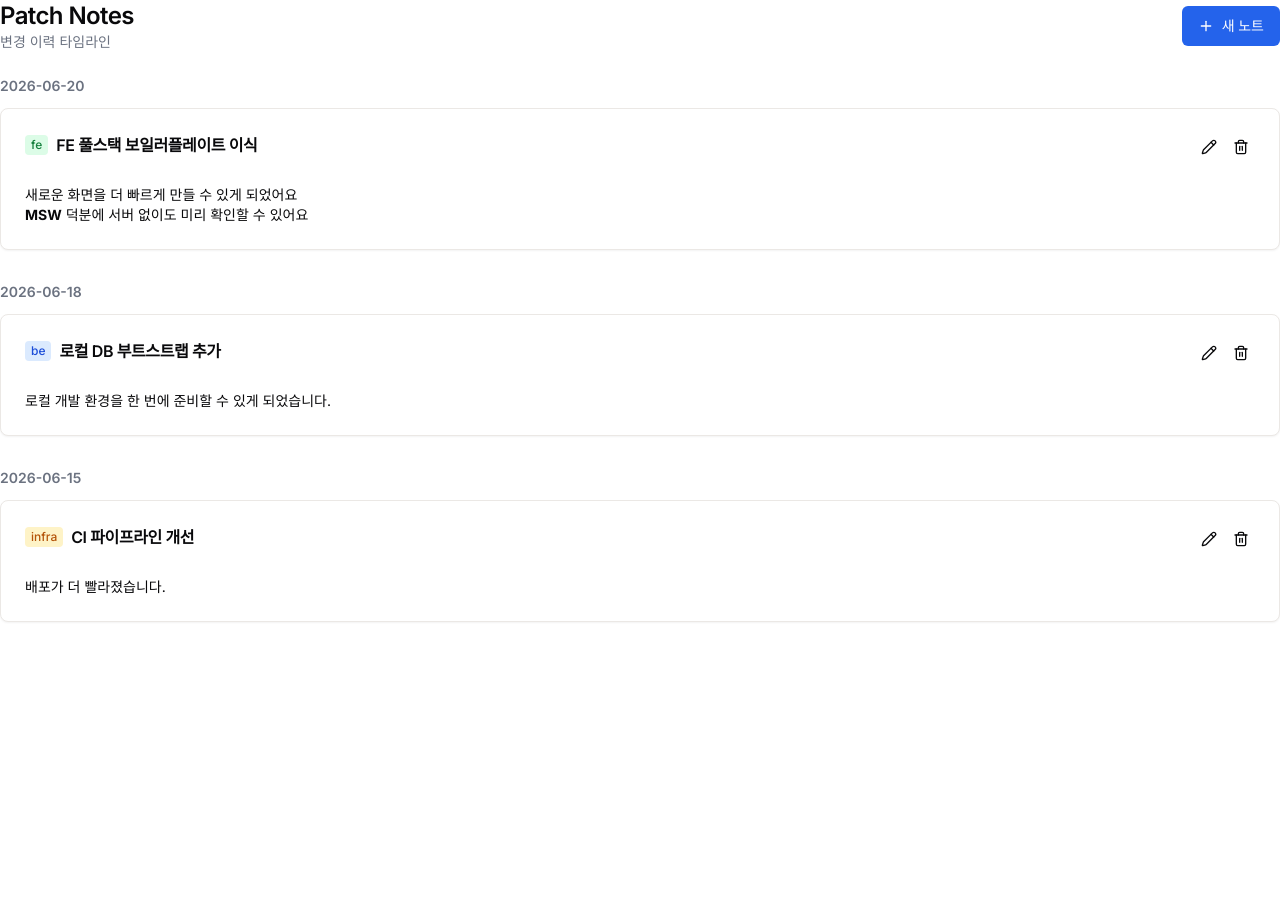
Test: PatchNotesPage (MSW-mocked) › edits a note updating both user_body and dev_body
Expected: the text "FE 풀스택 보일러플레이트 이식" is shown, [56, 133, 257, 157]
Click the button named "FE 풀스택 보일러플레이트 이식 수정" at (1209, 147), box [1195, 133, 1223, 161]
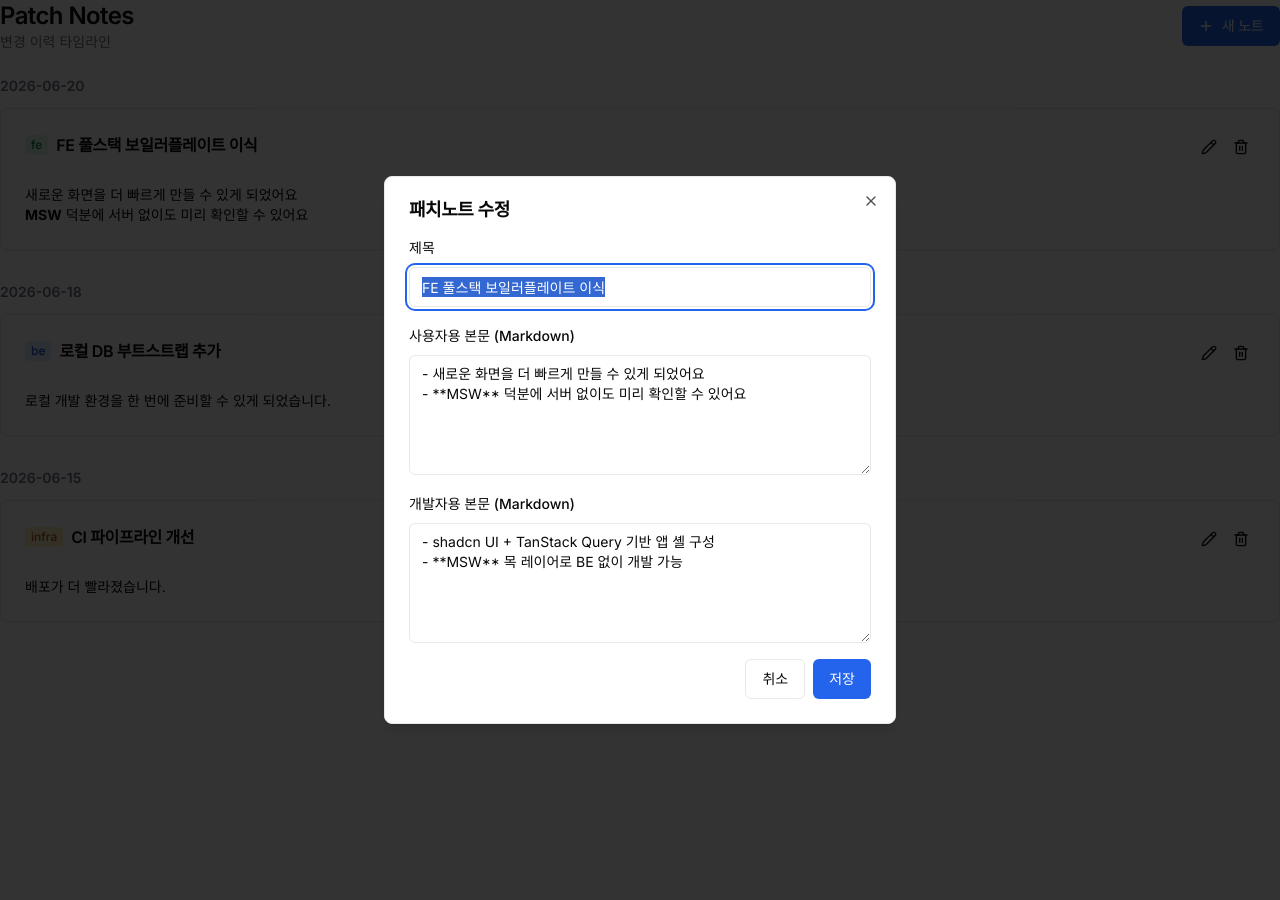
Replace the text in the field labelled "제목" with "수정된 제목입니다" at (640, 287), box [409, 267, 871, 307]
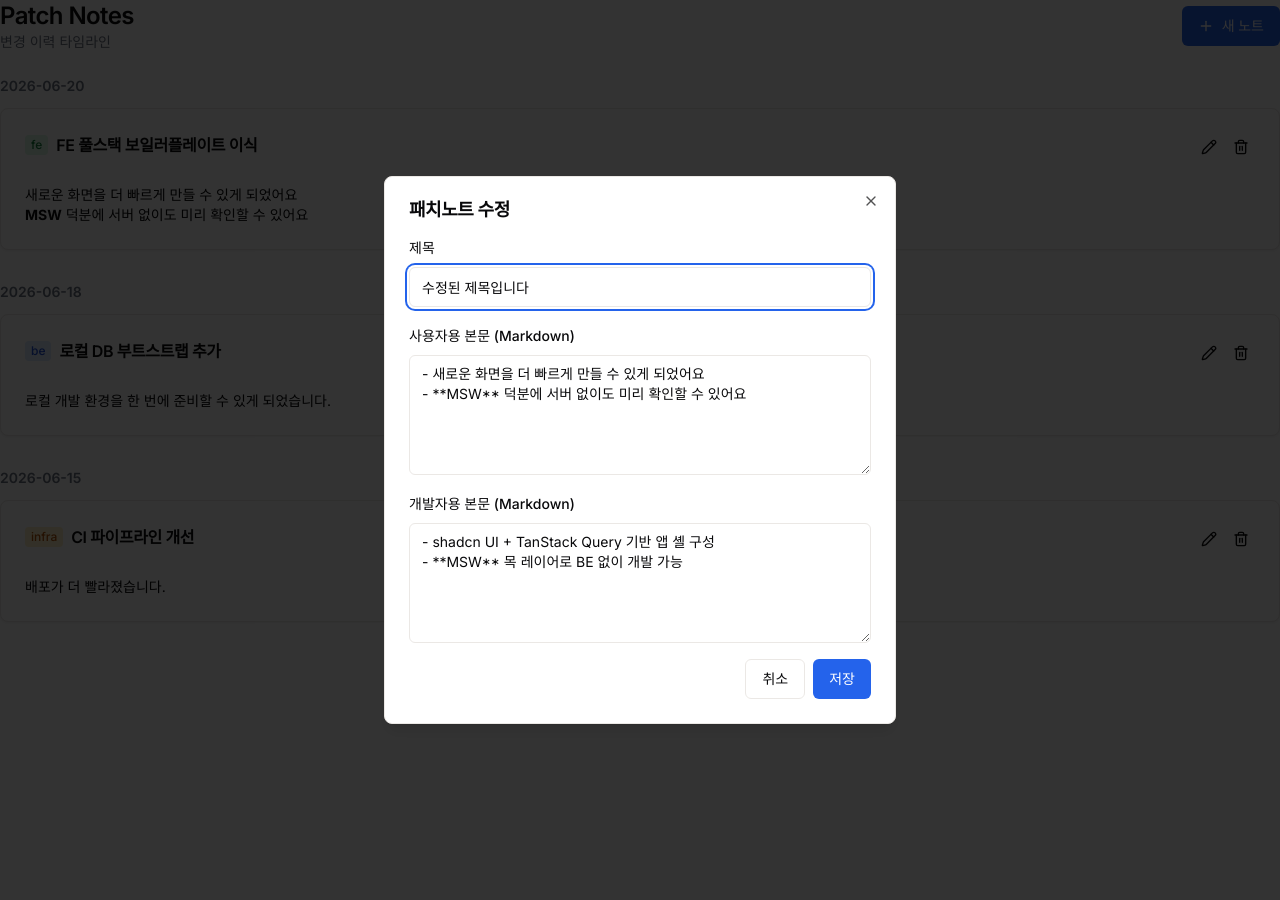
Replace the text in the text box labelled "사용자용 본문 (Markdown)" with "새 사용자 본문" at (640, 415), box [409, 355, 871, 475]
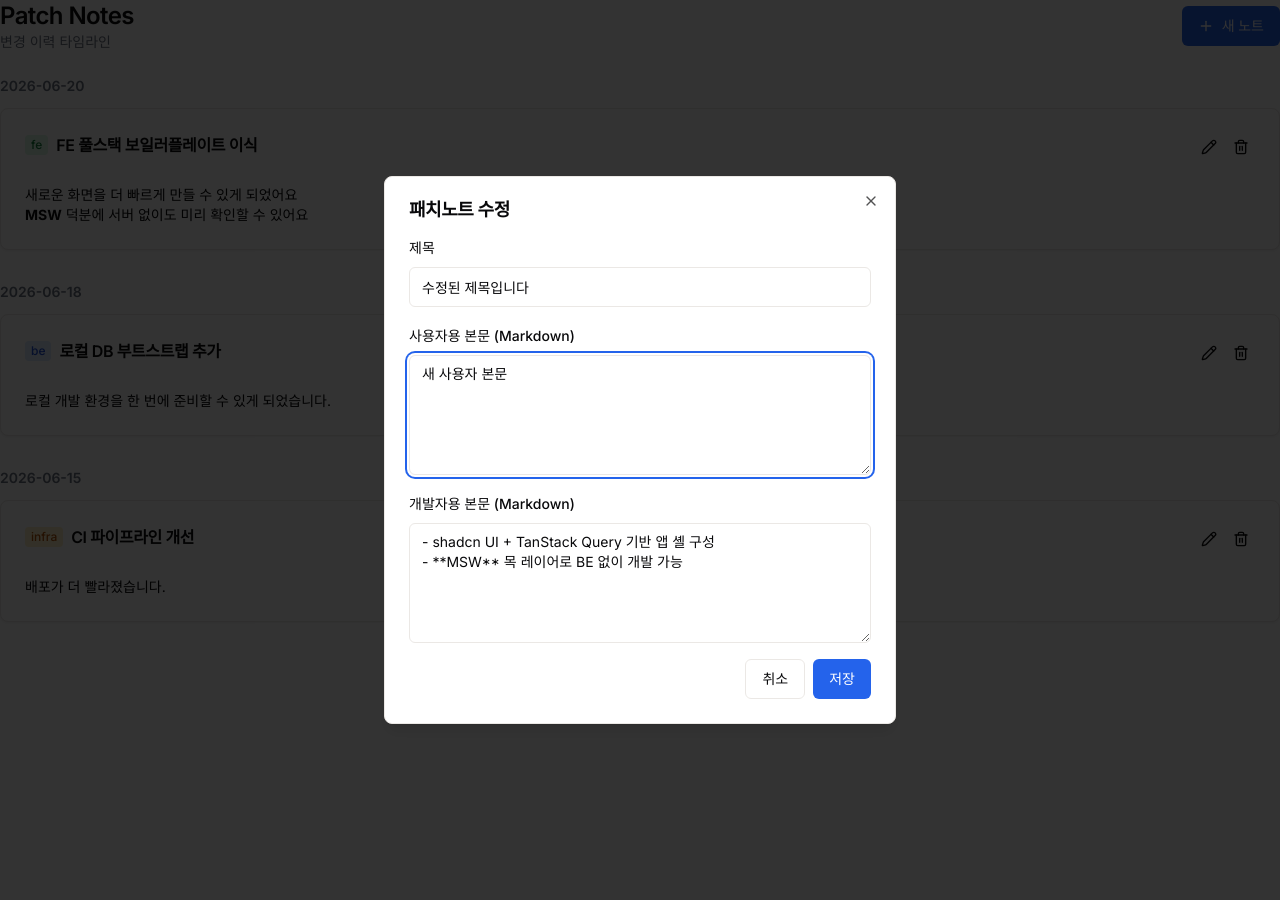
Replace the text in the text box labelled "개발자용 본문 (Markdown)" with "새 개발자 본문" at (640, 583), box [409, 523, 871, 643]
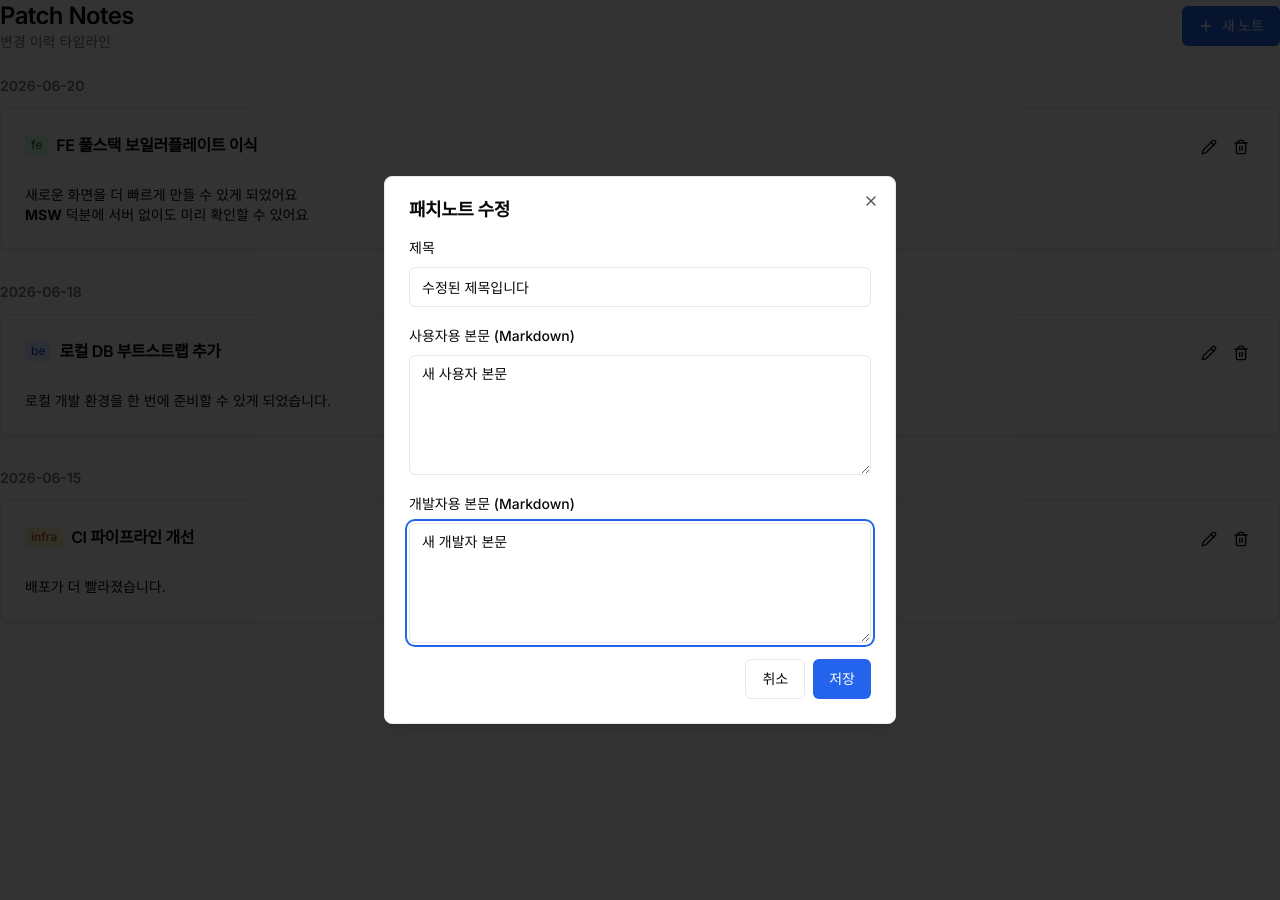
Click the button "저장" at (842, 679), box [813, 659, 871, 699]
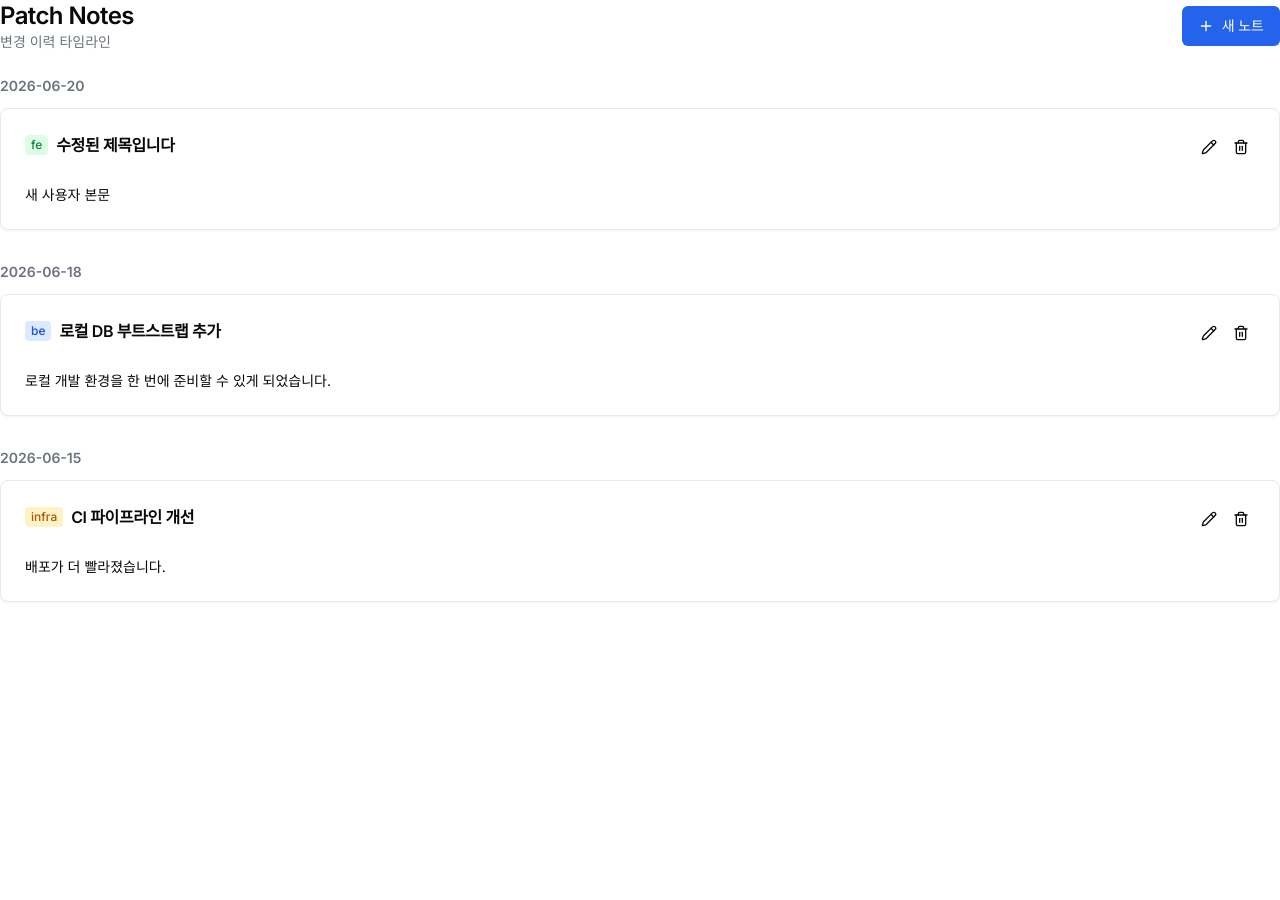
Expected: the text "수정된 제목입니다" is shown, [56, 133, 174, 157]
Expected: the text "새 사용자 본문" is shown, [25, 186, 110, 203]
